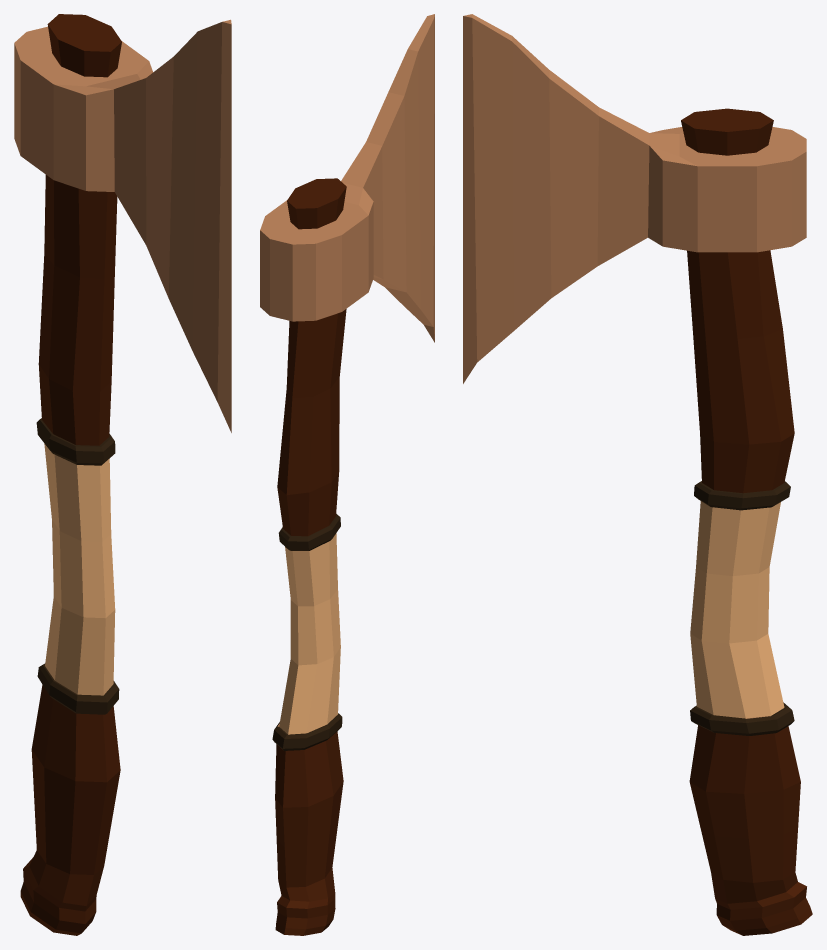
File: WoodAxe.fbx
The picture shows the model from 3 angles, left to right: view 1: azimuth 30°, elevation 25°; view 2: azimuth 150°, elevation 25°; view 3: azimuth 270°, elevation 25°; orthographic projection. The views are drawn at different scales.
Parts seen in each view (by area): view 1: axe; view 2: axe; view 3: axe.
Boxes of the visible parts, x1=… form: axe: x1=14, y1=14, x2=231, y2=935; axe: x1=260, y1=14, x2=434, y2=935; axe: x1=463, y1=14, x2=812, y2=935.
Size of the model in its own units: 0.1118 by 1.14 by 0.3929.
